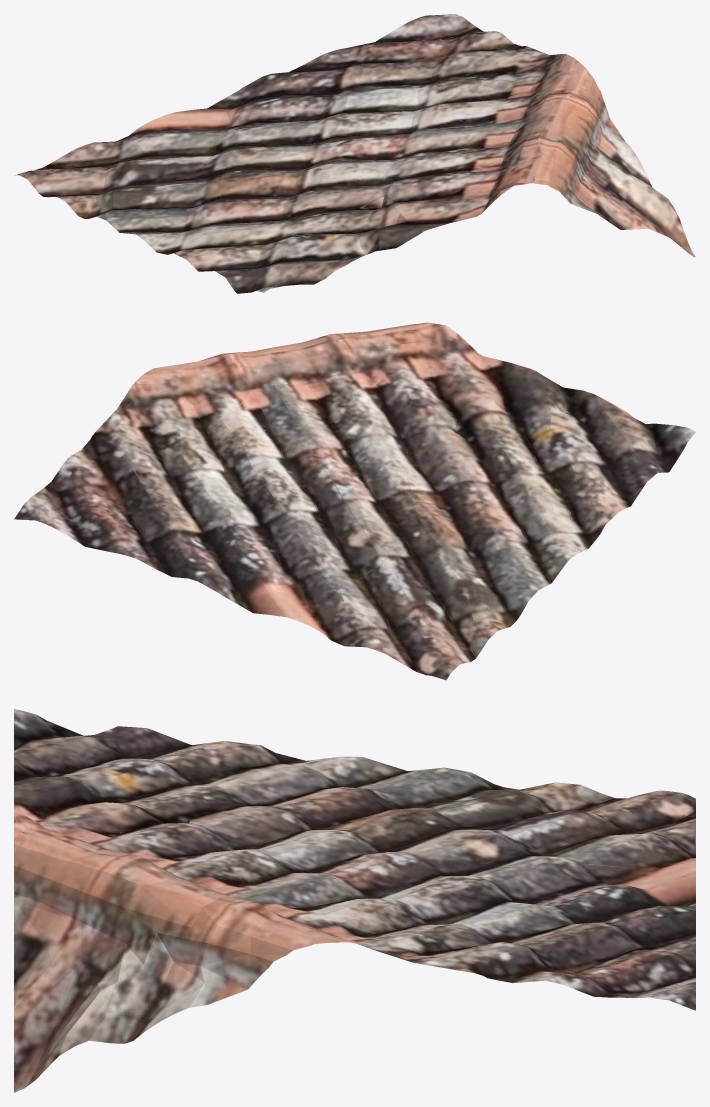
The picture shows the model from 3 angles, top to bottom: view 1: azimuth 30°, elevation 25°; view 2: azimuth 150°, elevation 25°; view 3: azimuth 270°, elevation 25°; orthographic projection. The views are drawn at different scales.
Bounding box in the file's own units: 1.67 × 0.4291 × 1.67.
3 materials, 3 textured.
